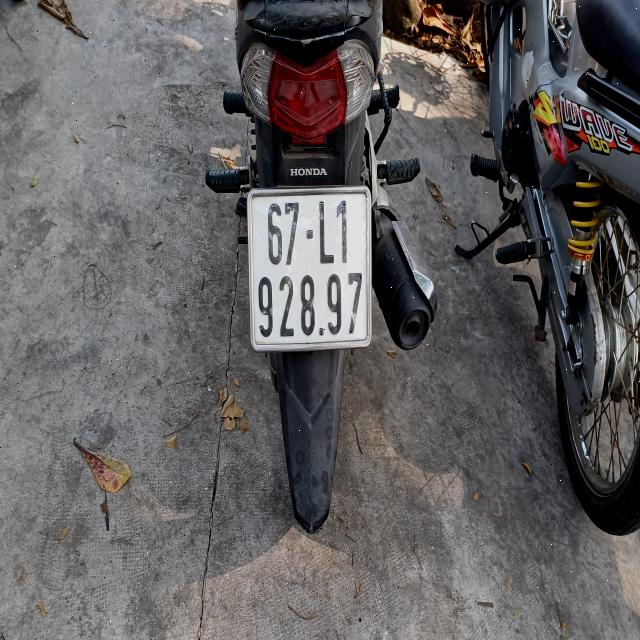1: (337, 198, 349, 264)
2: (278, 275, 294, 337)
6: (266, 200, 283, 266)
7: (283, 200, 302, 263), (345, 269, 362, 334)
8: (299, 273, 316, 337)
9: (256, 274, 275, 337), (326, 274, 342, 336)
L: (317, 200, 336, 266)
